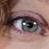eye: (22, 20, 38, 32)
